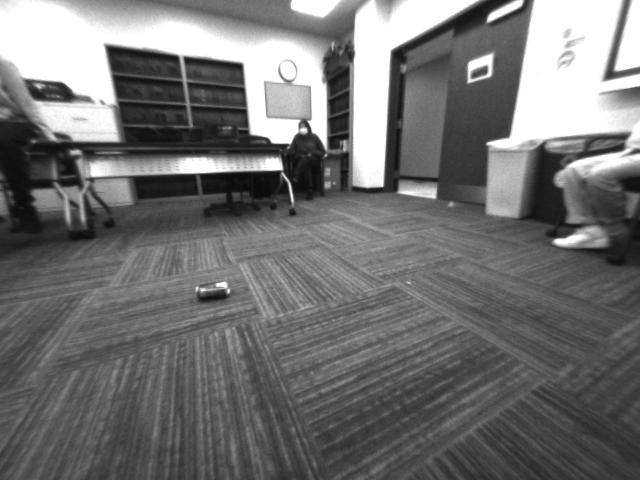can: (186, 278, 242, 304)
